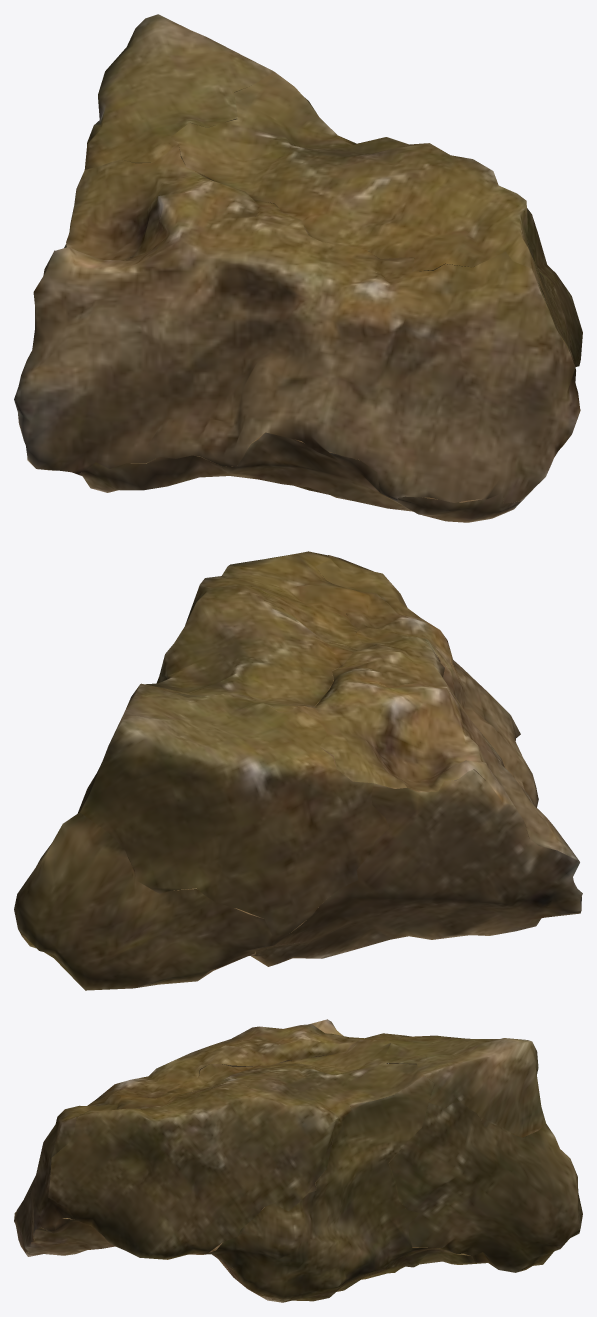
File: rock_moss_set_01_rock06.glb
3 renders of one model, top to bottom at view 1: azimuth 30°, elevation 25°; view 2: azimuth 150°, elevation 25°; view 3: azimuth 270°, elevation 25°, orthographic. The views are drawn at different scales.
Parts seen in each view (by area): view 1: rock_moss_set_01_rock06; view 2: rock_moss_set_01_rock06; view 3: rock_moss_set_01_rock06.
Boxes of the visible parts, <box> form: rock_moss_set_01_rock06: <box>14,14,582,522</box>; rock_moss_set_01_rock06: <box>14,551,582,990</box>; rock_moss_set_01_rock06: <box>14,1019,582,1302</box>.
Bounding box in the file's own units: 2.13 × 1.26 × 2.76.
Materials: 1 (1 with a texture image).
